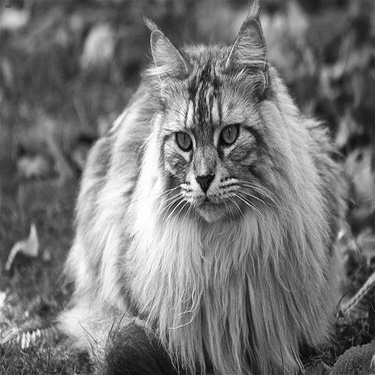cat: (32, 11, 357, 358)
